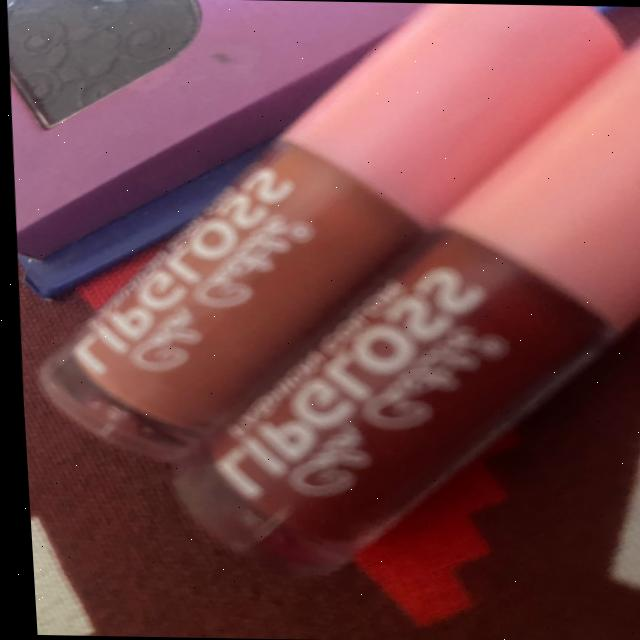lip gloss: (6, 0, 640, 555)
